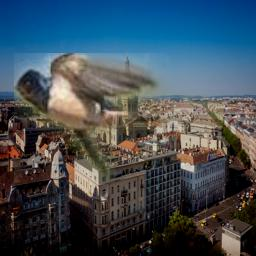Swallow: (14, 53, 224, 183)
